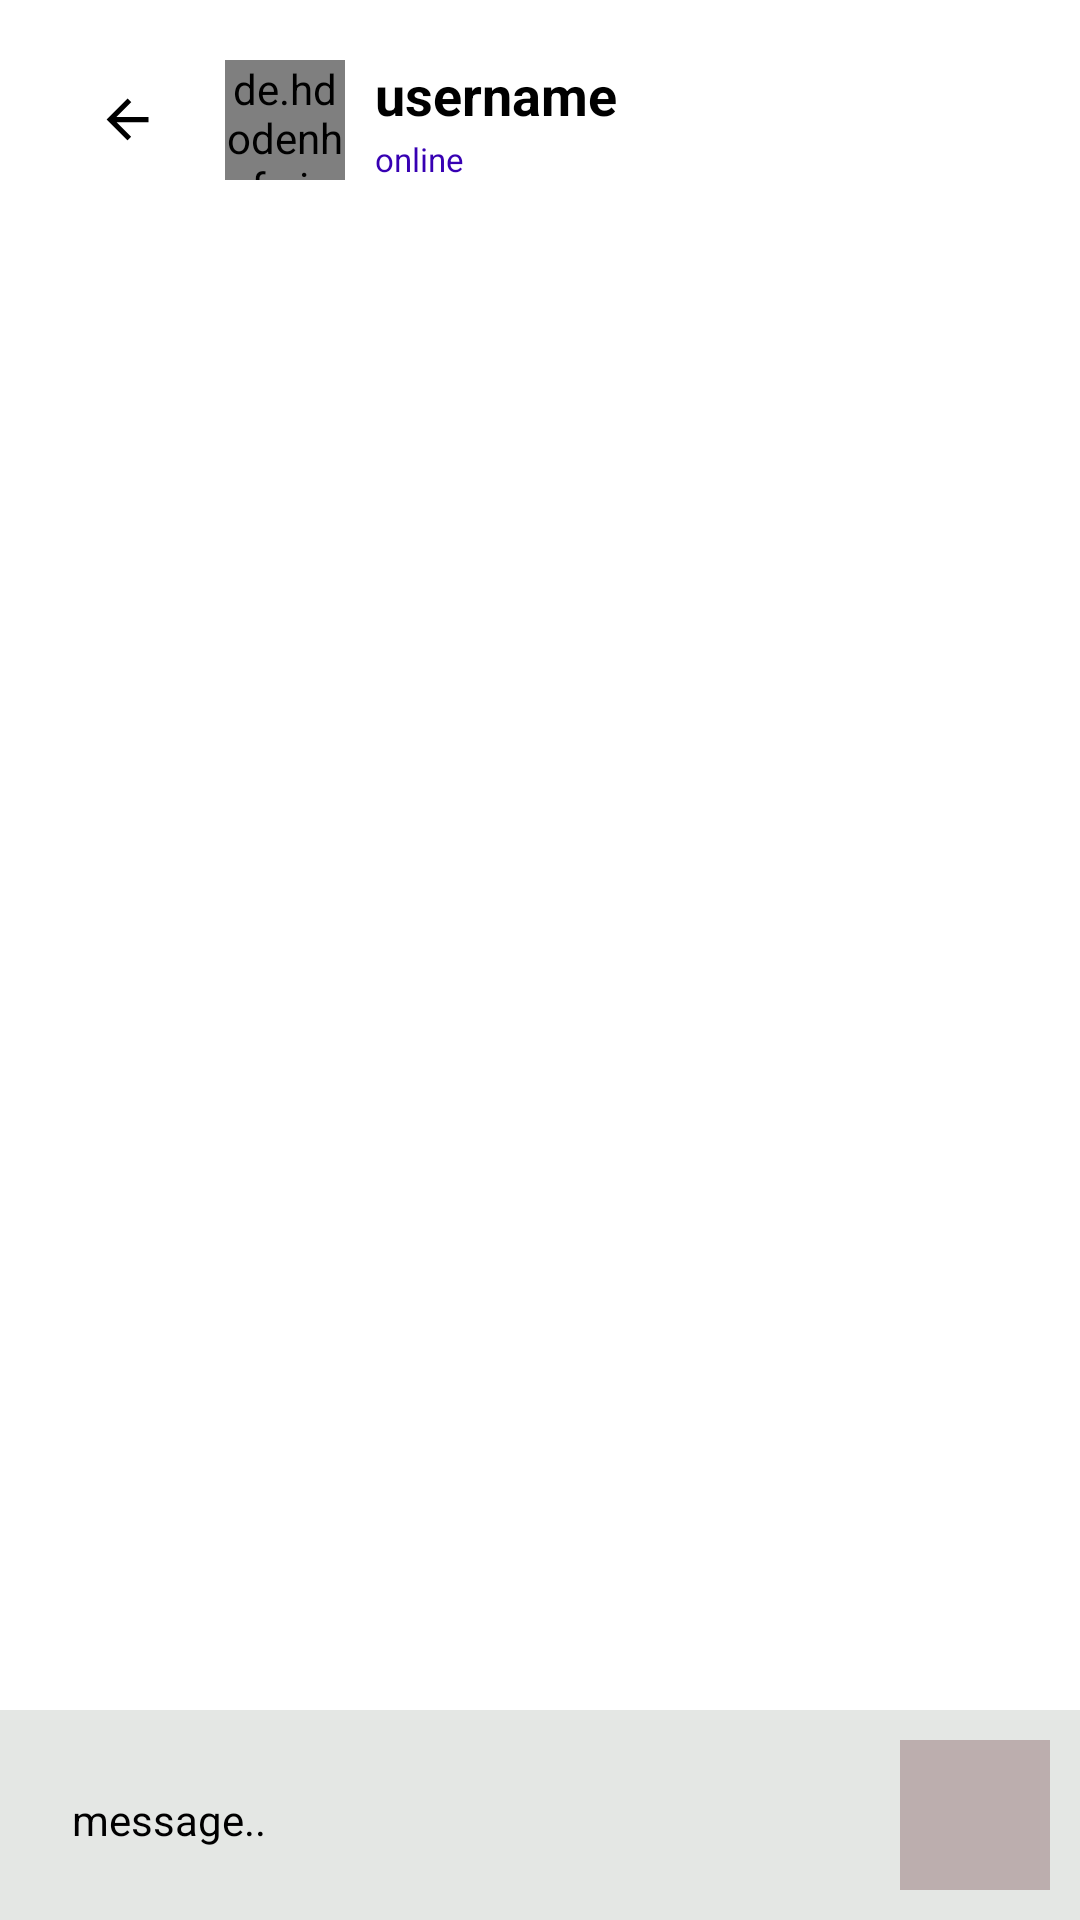

Named icons in this screenshot (1080×1920) and their bounding boxes, (x1, y1, x2, y2):
arrow back: (106, 98, 149, 141)
